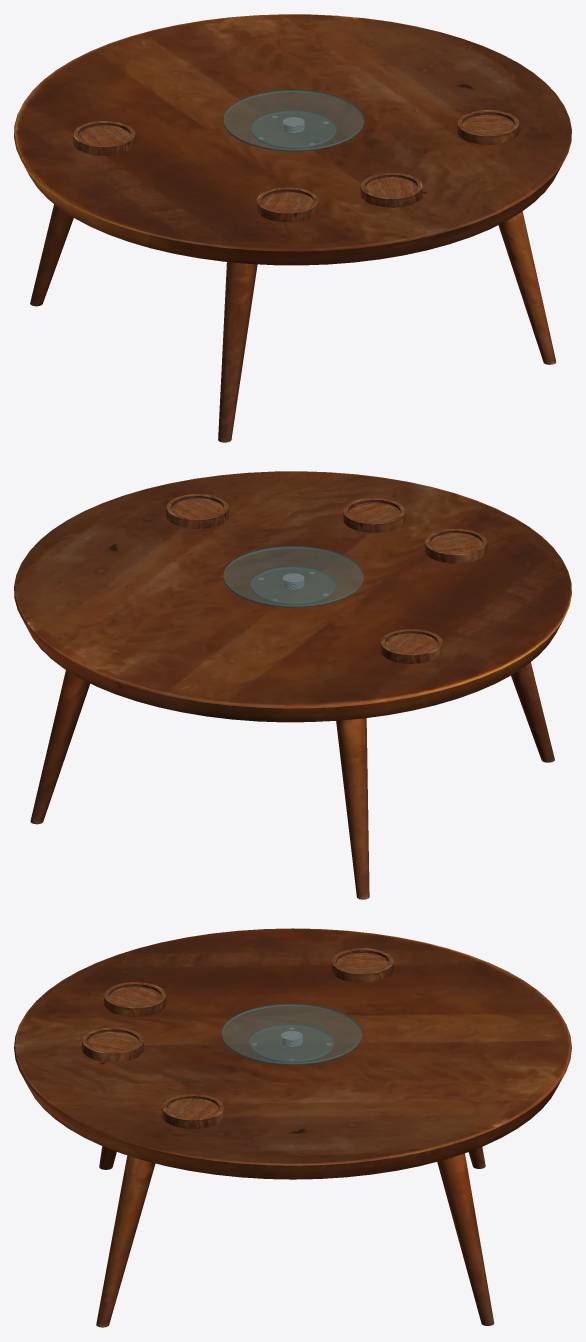
Rendered from CoffeeTble.glb.
3 renders of one model, top to bottom at view 1: azimuth 30°, elevation 25°; view 2: azimuth 150°, elevation 25°; view 3: azimuth 270°, elevation 25°, orthographic.
Parts seen in each view (by area): view 1: Object_2, Object_3, Object_6; view 2: Object_2, Object_3, Object_6; view 3: Object_2, Object_3, Object_6.
Boxes of the visible parts, x1,y1,x2,y2 form: Object_2: (14, 14, 571, 442); Object_3: (73, 110, 519, 221); Object_6: (223, 90, 363, 151); Object_2: (14, 471, 571, 899); Object_3: (166, 494, 487, 663); Object_6: (223, 546, 363, 607); Object_2: (14, 928, 571, 1327); Object_3: (82, 948, 393, 1128); Object_6: (221, 1003, 362, 1065).
Size of the model in its own units: 1.29 by 0.5441 by 1.29.
Materials: 5 (4 with a texture image).
